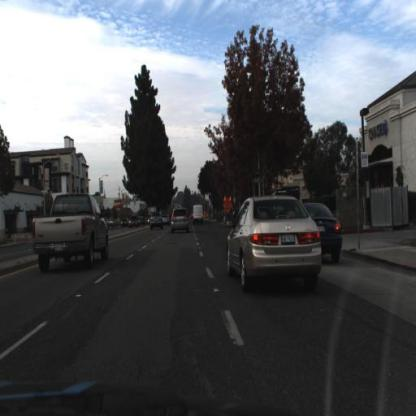car: (223, 192, 326, 298), (28, 187, 115, 275), (298, 195, 347, 268), (169, 203, 193, 239), (191, 199, 208, 230), (148, 207, 165, 234), (193, 205, 205, 224), (121, 217, 131, 229), (130, 218, 140, 230), (162, 213, 171, 225)
